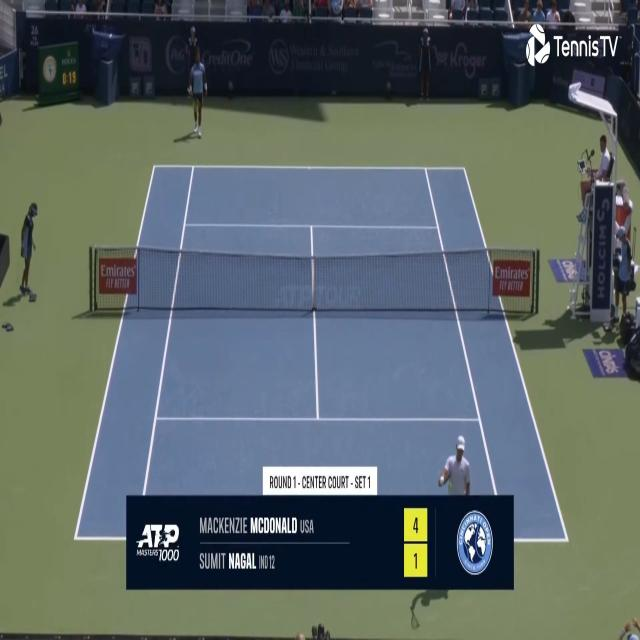tennis-player: (438, 432, 472, 497), (186, 46, 208, 139)
